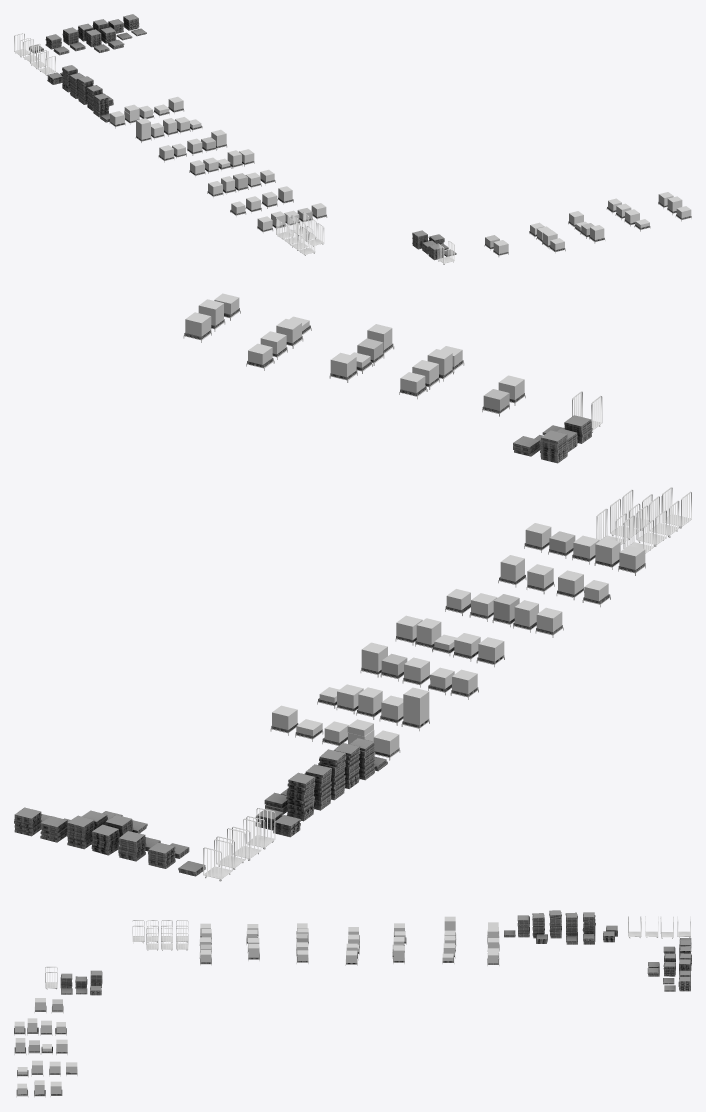
Rendered from warehouseBox.fbx.
The picture shows the model from 3 angles, top to bottom: view 1: azimuth 30°, elevation 25°; view 2: azimuth 150°, elevation 25°; view 3: azimuth 270°, elevation 25°; orthographic projection. The views are drawn at different scales.
Visible parts, largest first — view 1: PalletLP, Cardboard_B_LP, Cardboard_A_LP, Trolley_LP, Cardboard_C_LP, PedestalLP, PlasticBox_B_LP, PlasticBox_A_LP; view 2: PalletLP, Cardboard_A_LP, Cardboard_B_LP, Trolley_LP, Cardboard_C_LP, PlasticBox_B_LP, PedestalLP, PlasticBox_A_LP; view 3: PalletLP, Cardboard_B_LP, Trolley_LP, Cardboard_A_LP, Cardboard_C_LP, PedestalLP, PlasticBox_B_LP, PlasticBox_A_LP.
Part boxes in pixels (bbox=[...]): PalletLP: bbox=[29, 14, 691, 260]; Cardboard_B_LP: bbox=[139, 105, 691, 250]; Cardboard_A_LP: bbox=[110, 96, 673, 253]; Trolley_LP: bbox=[14, 33, 454, 264]; Cardboard_C_LP: bbox=[124, 104, 631, 223]; PedestalLP: bbox=[109, 109, 691, 256]; PlasticBox_B_LP: bbox=[201, 137, 594, 247]; PlasticBox_A_LP: bbox=[175, 117, 551, 240]; PalletLP: bbox=[14, 308, 645, 876]; Cardboard_A_LP: bbox=[185, 312, 645, 754]; Cardboard_B_LP: bbox=[198, 293, 620, 742]; Trolley_LP: bbox=[203, 391, 691, 881]; Cardboard_C_LP: bbox=[260, 331, 599, 743]; PlasticBox_B_LP: bbox=[357, 338, 575, 675]; PedestalLP: bbox=[183, 310, 645, 760]; PlasticBox_A_LP: bbox=[337, 360, 553, 708]; PalletLP: bbox=[14, 910, 691, 1095]; Cardboard_B_LP: bbox=[14, 924, 498, 1094]; Trolley_LP: bbox=[45, 916, 690, 989]; Cardboard_A_LP: bbox=[32, 916, 498, 1093]; Cardboard_C_LP: bbox=[49, 926, 498, 1073]; PedestalLP: bbox=[14, 931, 499, 1097]; PlasticBox_B_LP: bbox=[29, 933, 403, 1051]; PlasticBox_A_LP: bbox=[41, 938, 454, 1032].
Bounding box in the file's own units: 3698 × 236 × 6389.
